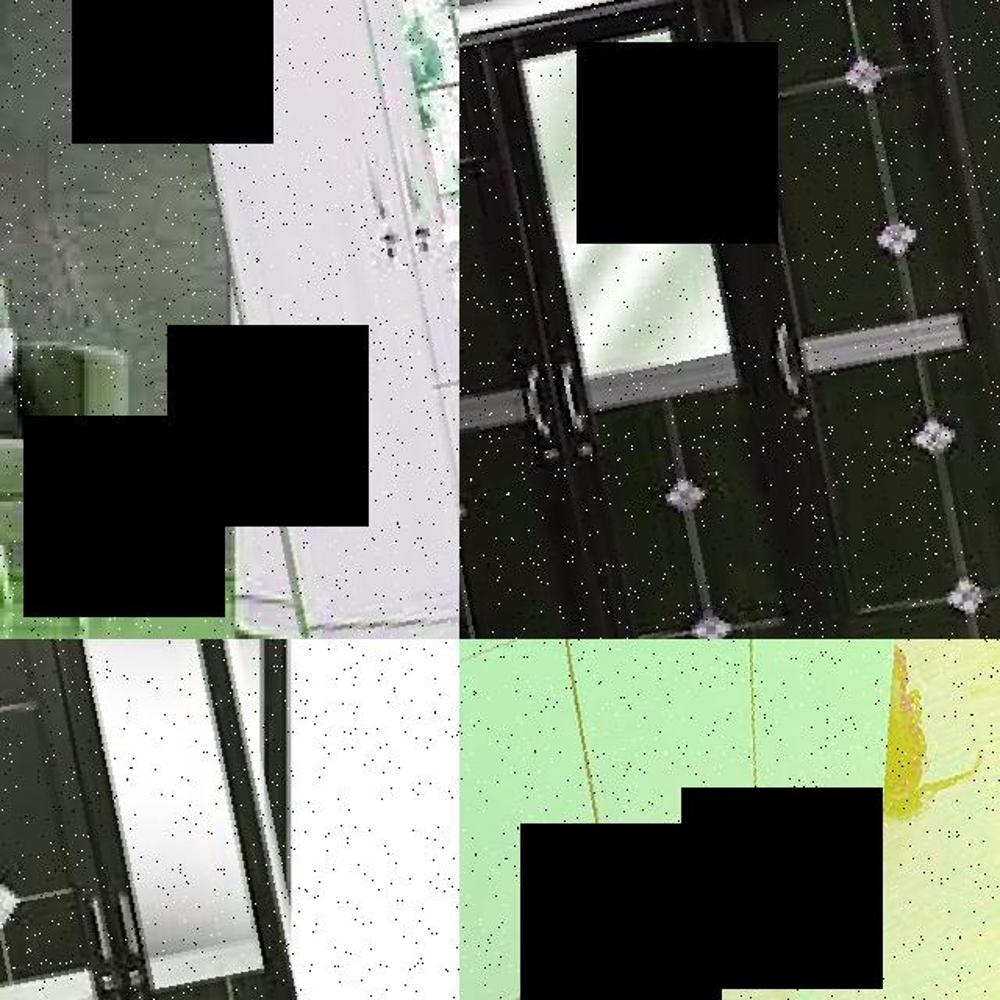cabinet: (459, 0, 1000, 639), (459, 639, 980, 1000), (184, 0, 459, 639), (0, 639, 342, 1000)
